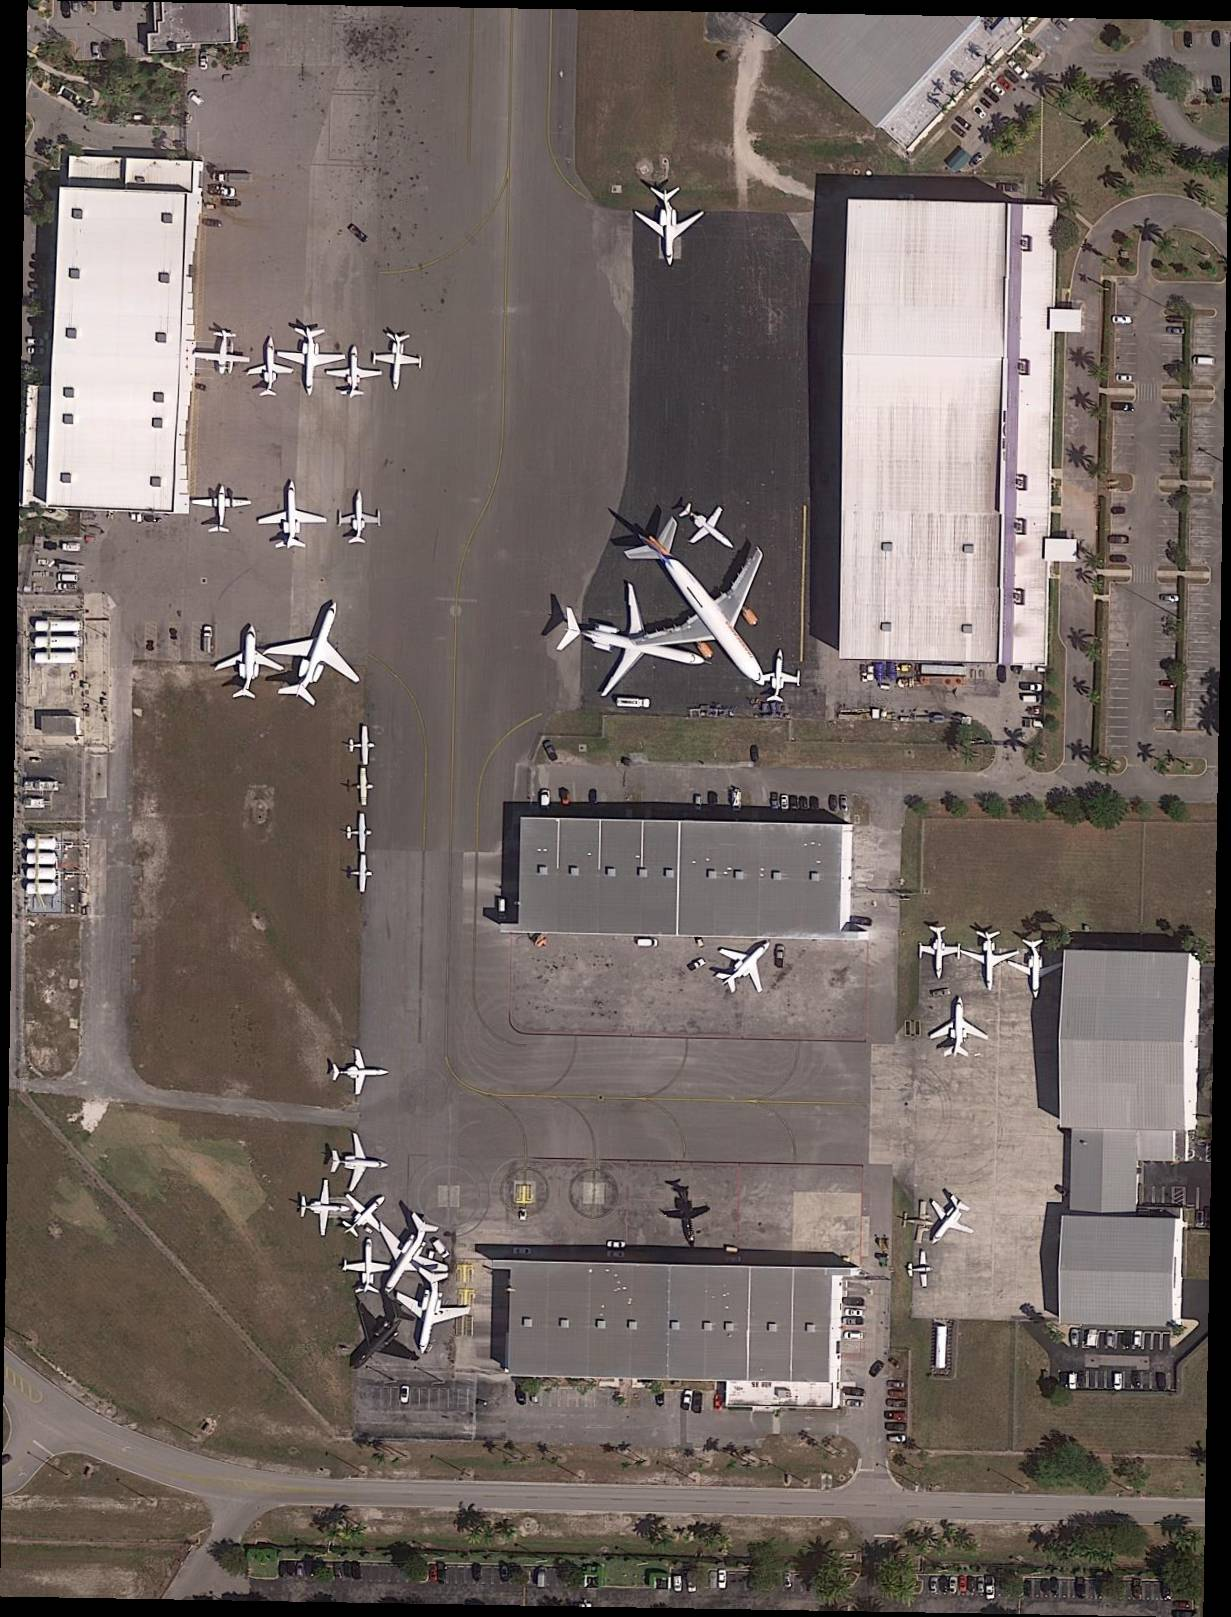large vehicle: (213, 171, 253, 185), (617, 695, 652, 711), (200, 626, 213, 654)
plane: (587, 482, 828, 732), (543, 569, 718, 724), (253, 586, 381, 723), (347, 1200, 466, 1318), (385, 1265, 477, 1362), (705, 922, 790, 1008), (635, 184, 710, 269), (669, 490, 749, 567), (909, 1183, 987, 1263), (212, 626, 288, 706), (327, 1174, 400, 1251), (275, 323, 345, 396), (257, 481, 328, 551), (328, 1131, 393, 1196), (928, 995, 990, 1061), (659, 1183, 716, 1252), (959, 931, 1020, 993), (369, 328, 423, 393), (297, 1176, 353, 1238), (1007, 938, 1063, 1000), (189, 327, 252, 381), (191, 483, 253, 535), (325, 345, 383, 399), (331, 1044, 391, 1097), (341, 1237, 391, 1296), (756, 648, 803, 708), (248, 337, 294, 399), (918, 925, 963, 981), (337, 490, 381, 545), (899, 1197, 936, 1246), (341, 854, 372, 894), (347, 768, 376, 807), (348, 725, 376, 765), (906, 1251, 934, 1290), (347, 813, 372, 853)
small vehicle: (541, 791, 552, 816), (637, 937, 658, 950), (887, 1390, 906, 1401), (886, 1380, 906, 1390)
